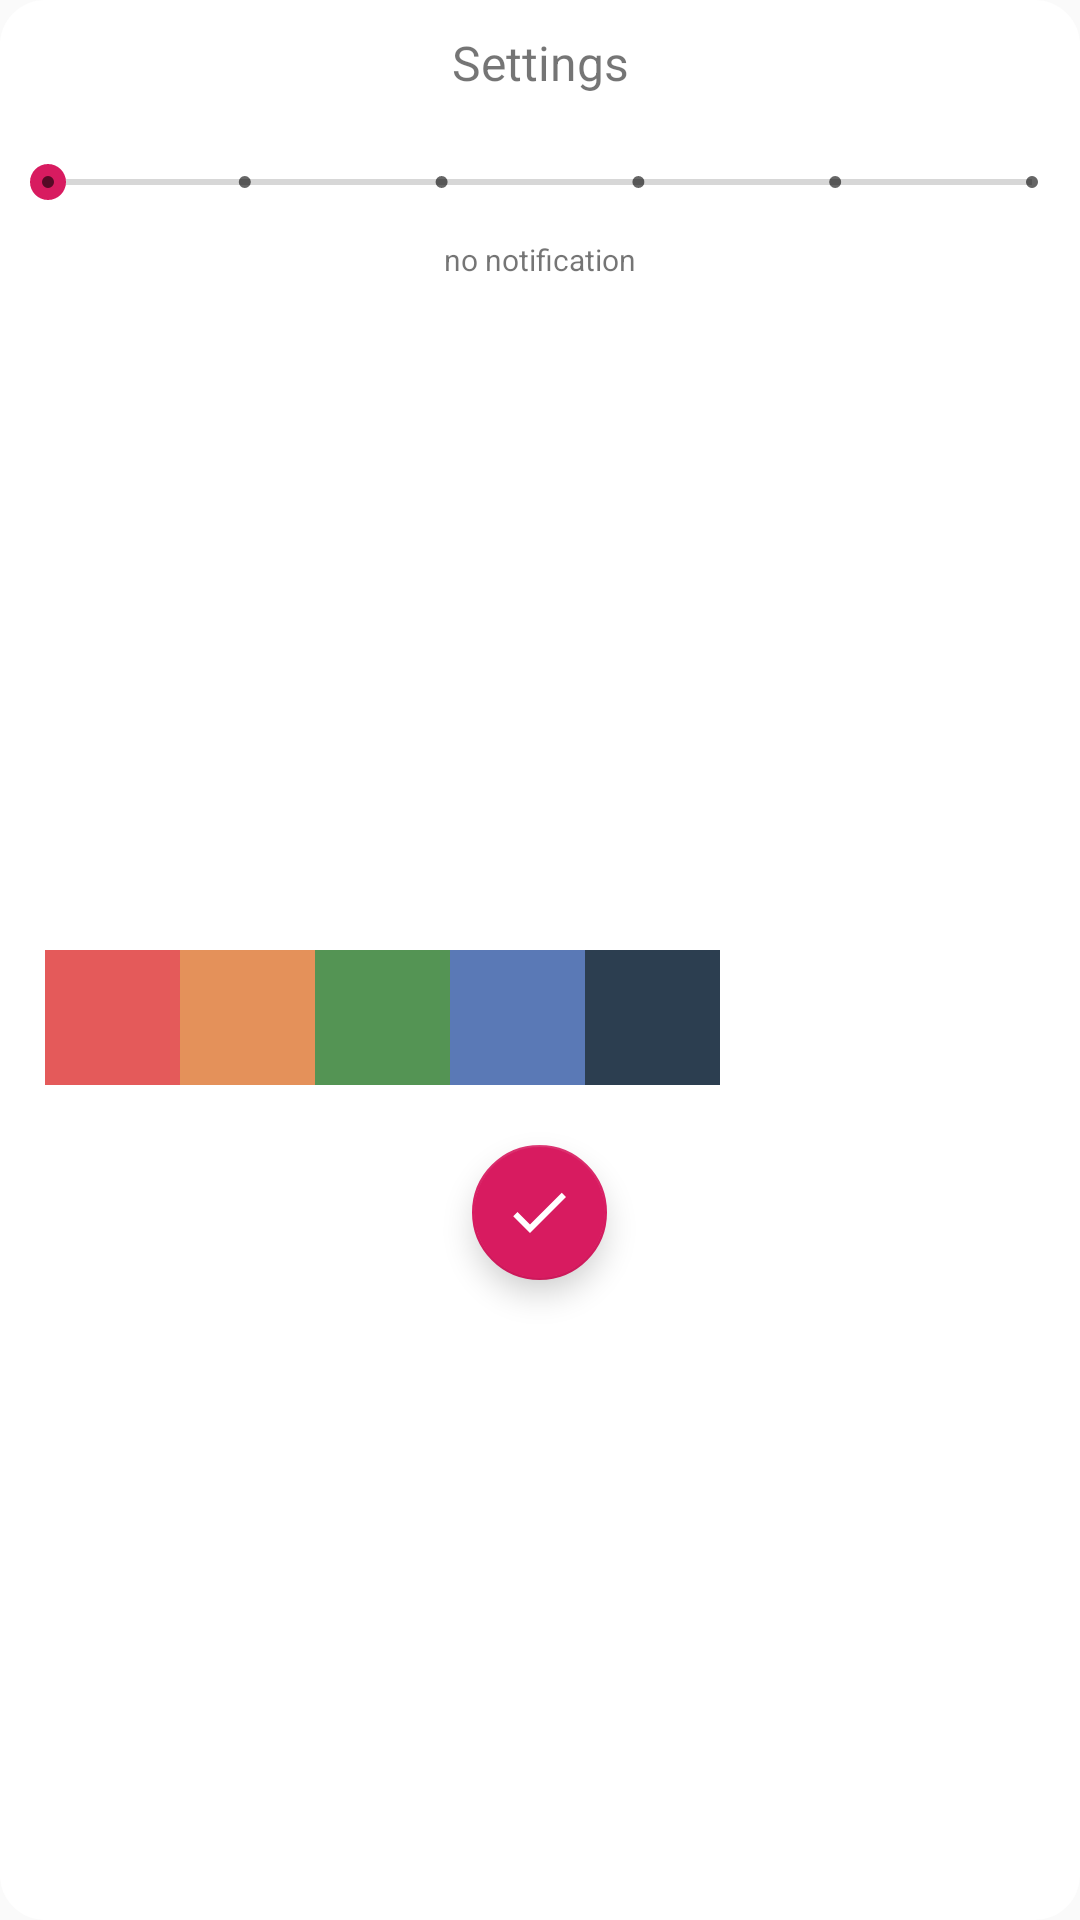

Screen size 1080*1920. Icon name, then its box in pixels as (x1, y1, x2, y2):
check: (472, 1145, 607, 1280)
